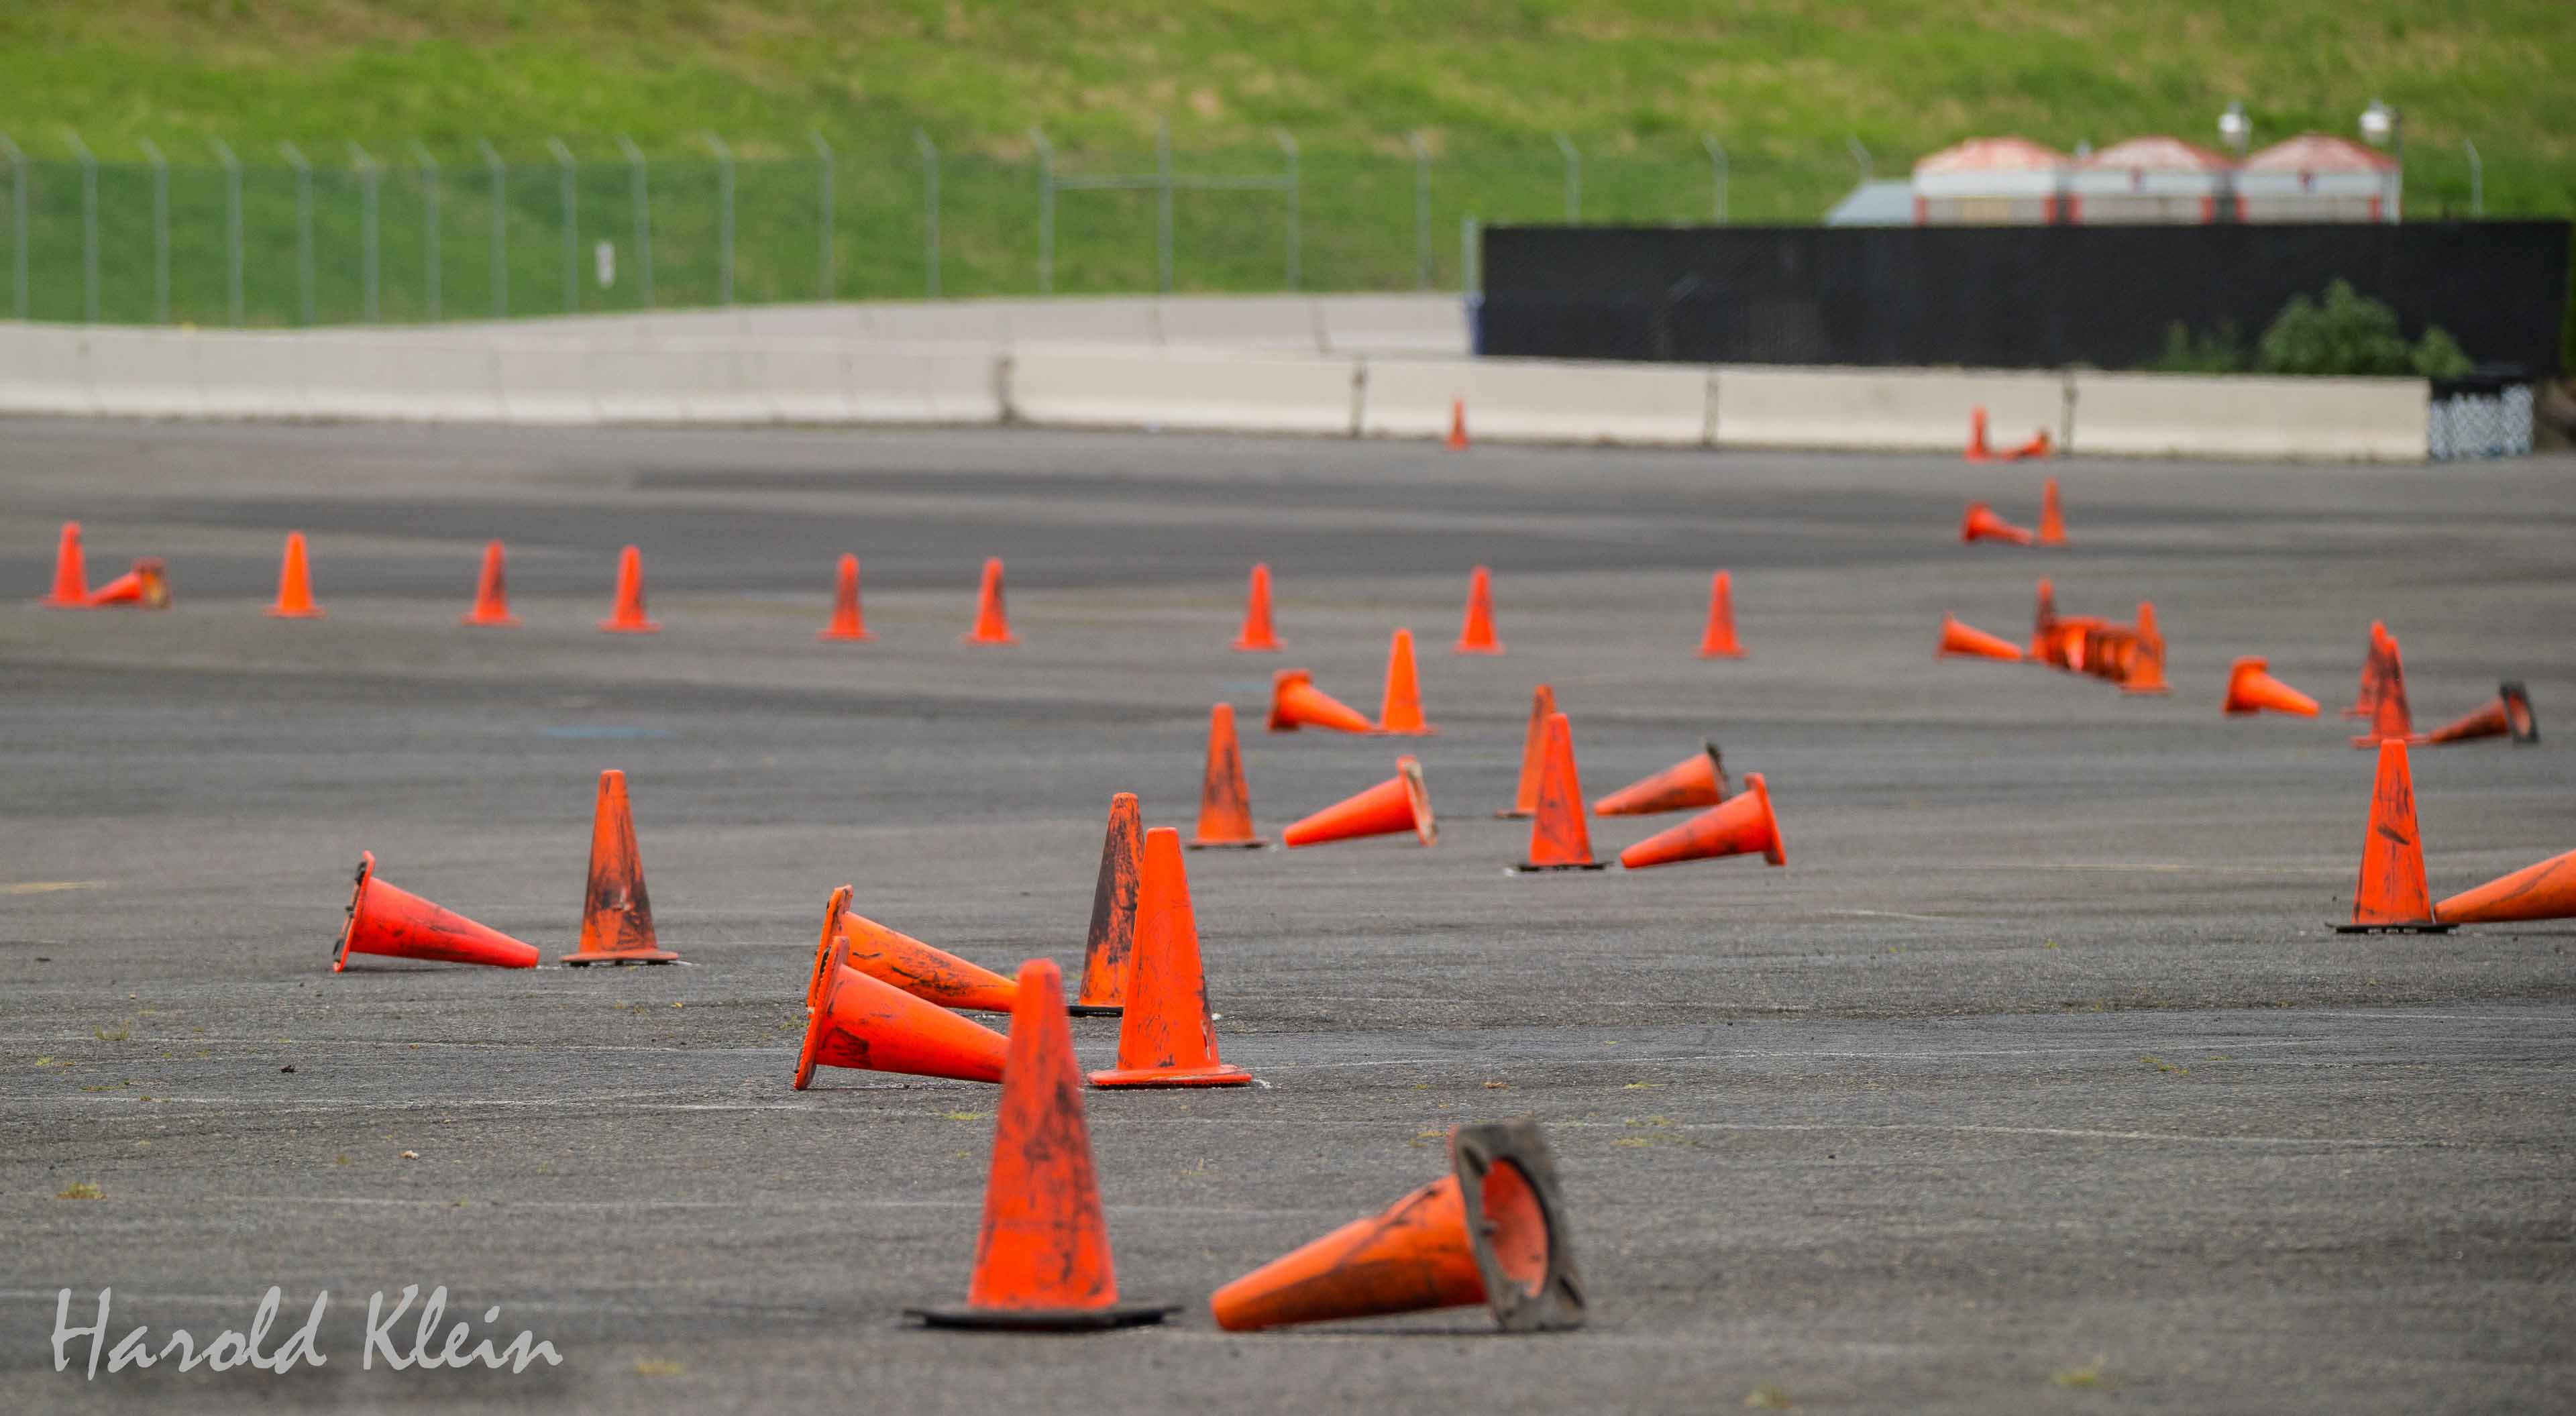cone: (912, 959, 1189, 1339), (1207, 1114, 1599, 1348), (781, 945, 1085, 1100), (1088, 827, 1259, 1093), (785, 872, 1055, 1020), (316, 848, 572, 987), (548, 755, 692, 971), (1071, 788, 1184, 1018), (2342, 736, 2456, 945), (1505, 706, 1613, 881), (1613, 774, 1788, 881), (1268, 759, 1448, 849), (2433, 823, 2576, 936), (1184, 701, 1275, 861), (1592, 736, 1748, 818), (2416, 675, 2555, 750), (2342, 619, 2416, 753), (1367, 624, 1444, 745), (1263, 668, 1376, 739), (1687, 568, 1760, 677), (2112, 589, 2182, 703), (2220, 657, 2328, 727), (595, 541, 664, 640), (963, 555, 1029, 654), (256, 532, 326, 624), (459, 537, 528, 628), (811, 549, 876, 642), (1936, 605, 2023, 671), (2014, 572, 2070, 671), (40, 514, 96, 610), (1231, 560, 1285, 657), (1456, 567, 1509, 663), (84, 567, 178, 610)
